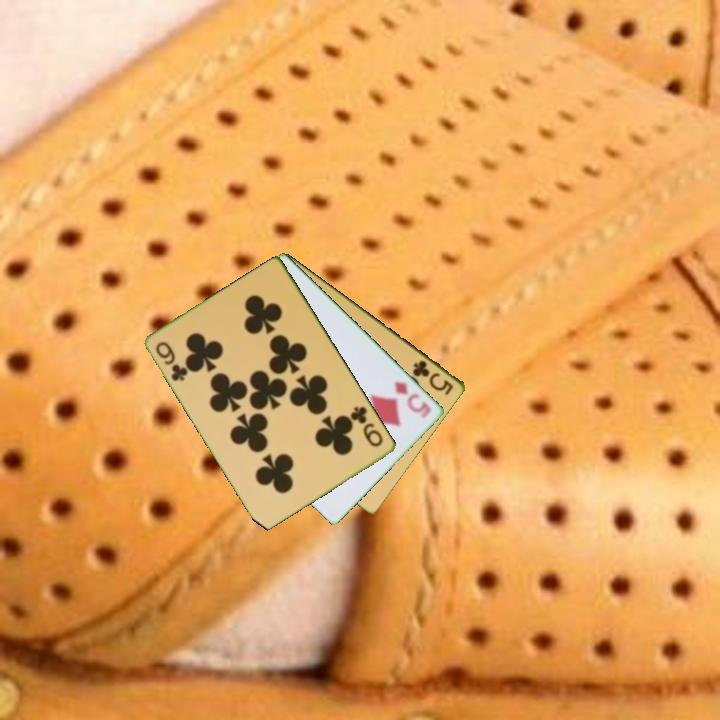5c: (409, 357, 457, 398)
5d: (391, 377, 435, 421)
9c: (347, 403, 386, 450), (152, 338, 191, 384)
